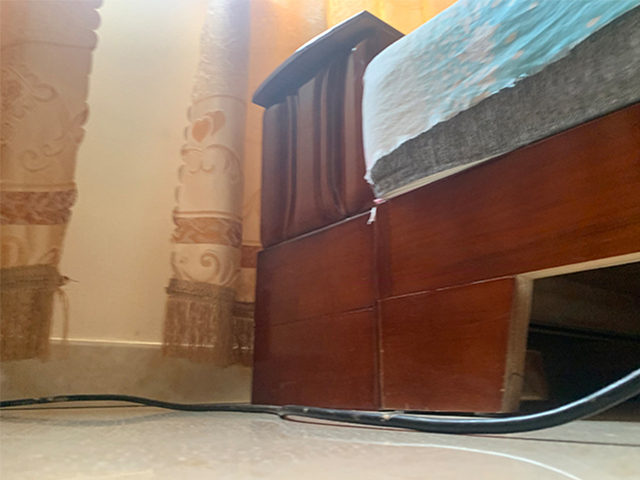curtain: (162, 1, 457, 366), (1, 1, 104, 362)
sofa: (252, 1, 640, 414)
wire: (1, 366, 640, 437)
